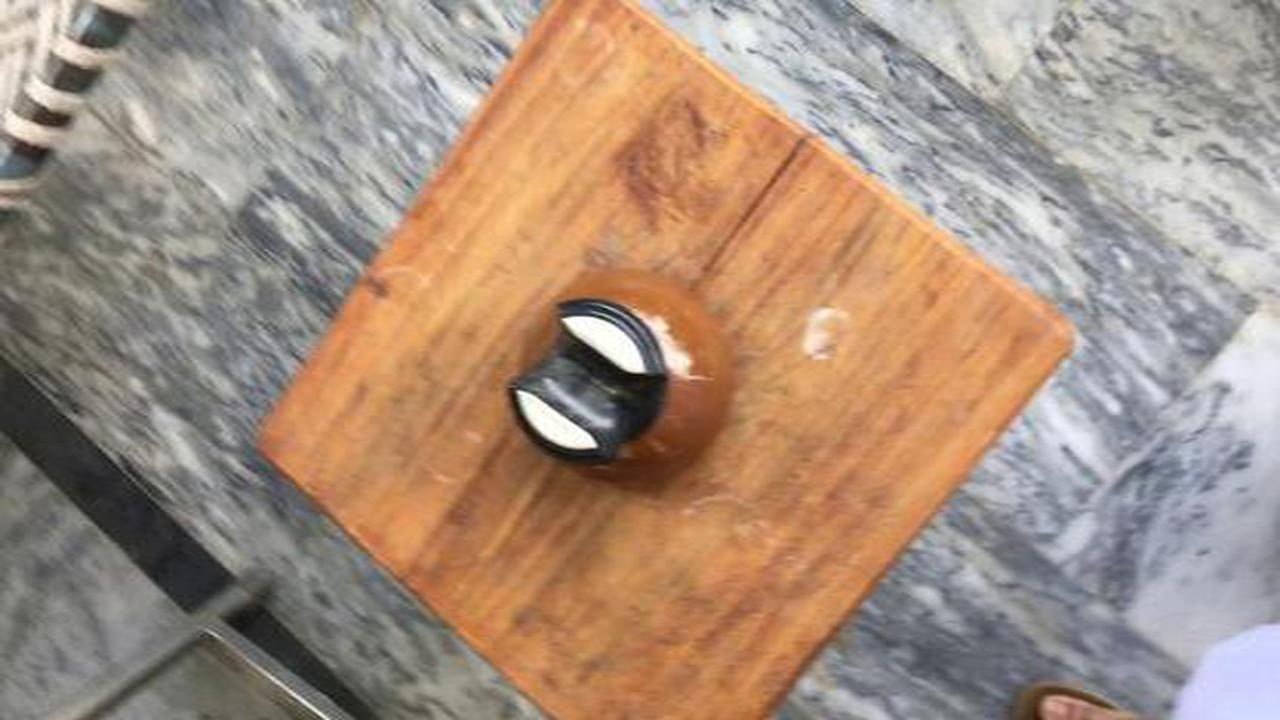insulator_pin: (487, 258, 751, 496)
